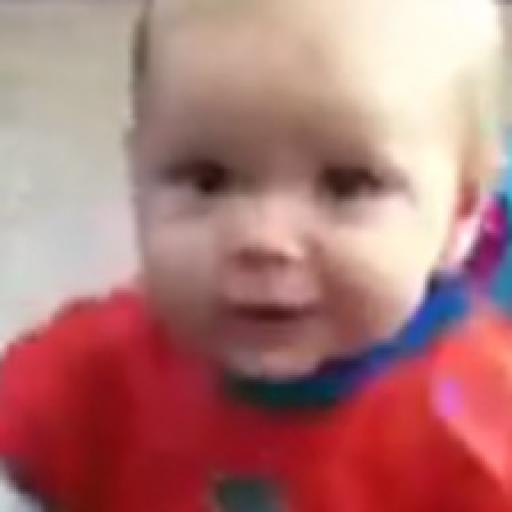Autism: (102, 14, 512, 460)
